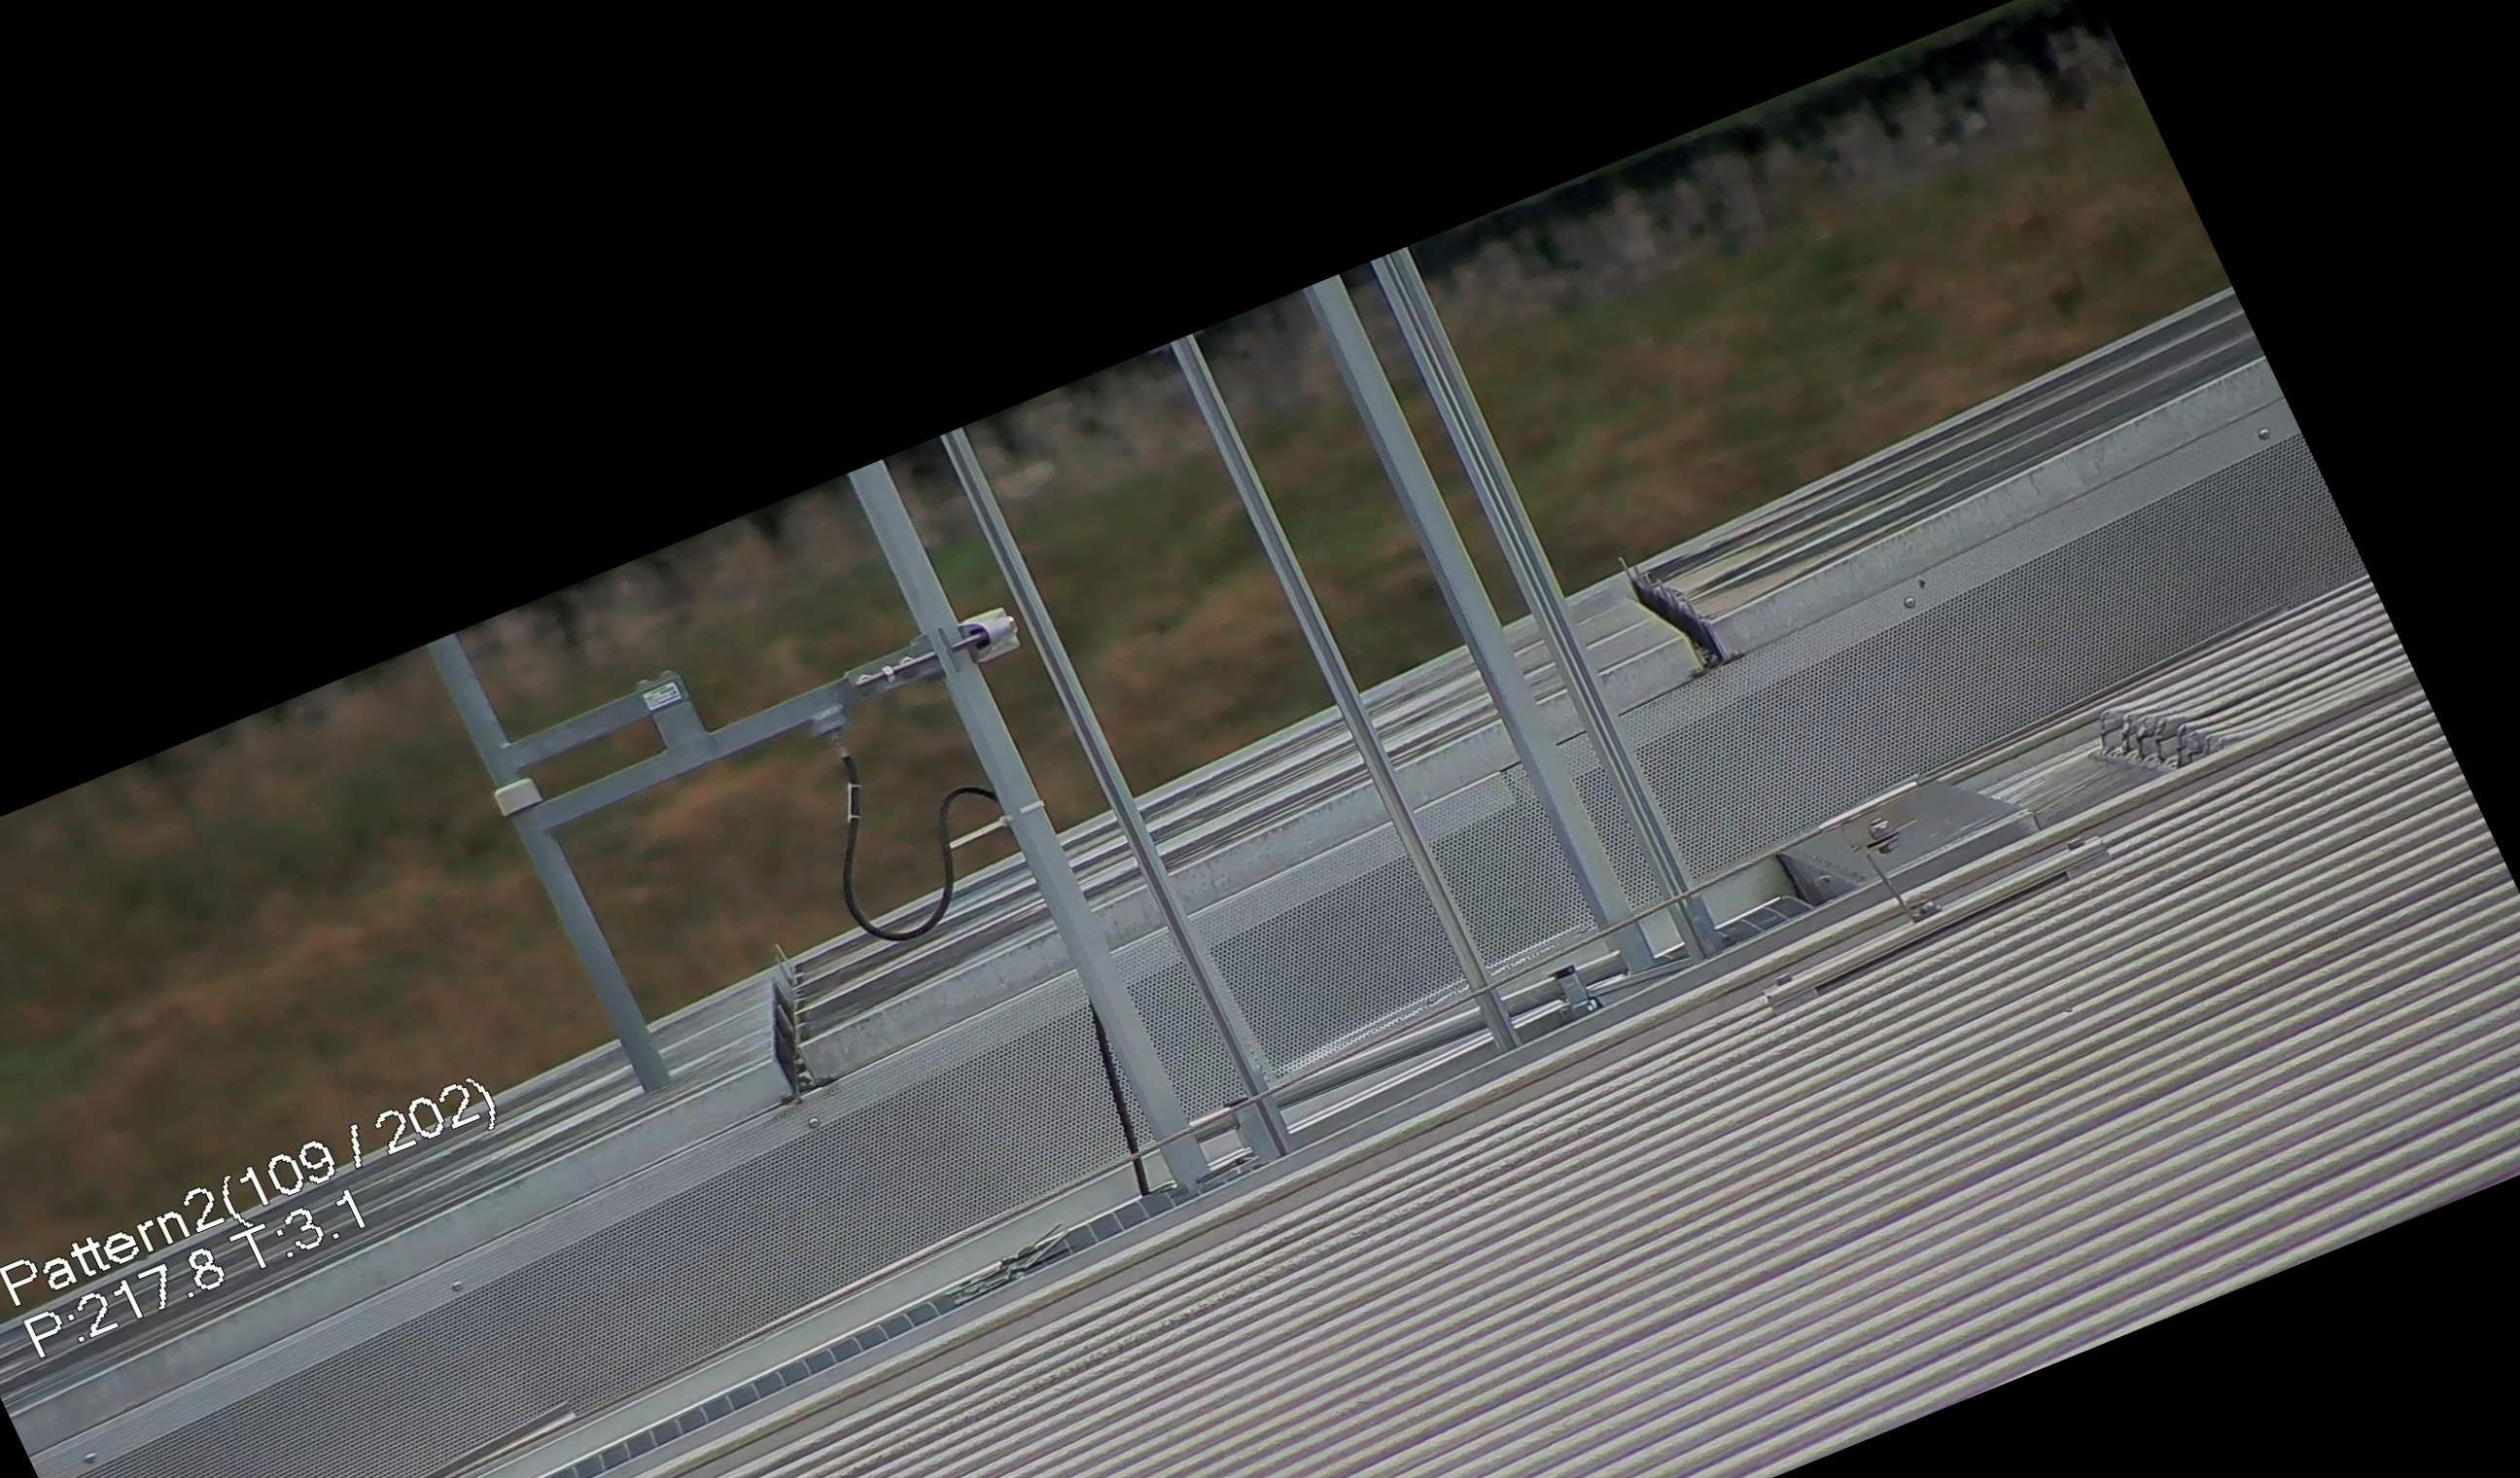Other: (1616, 531, 1759, 684)
